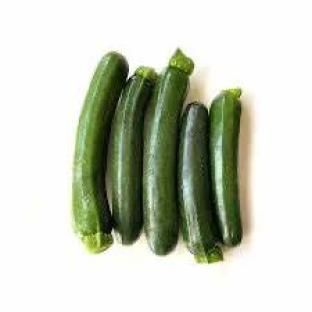Zucchini: (73, 52, 128, 252), (143, 50, 194, 255), (110, 67, 156, 244), (178, 103, 223, 262), (210, 89, 242, 245)
